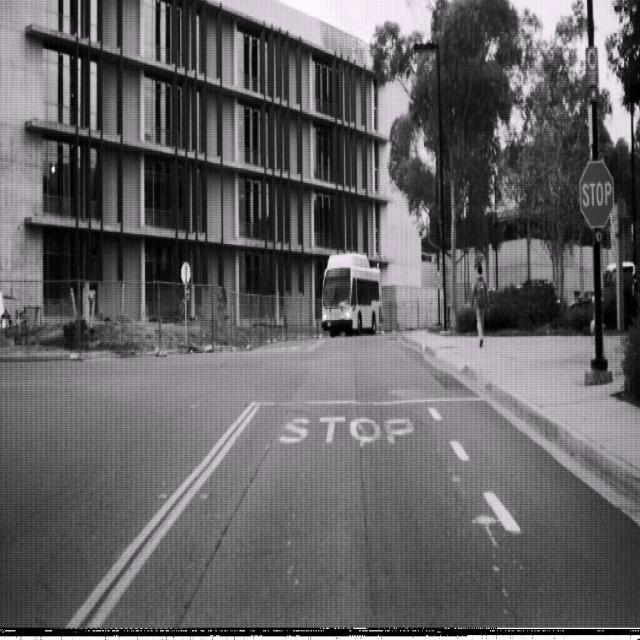stop: (579, 158, 614, 228)
